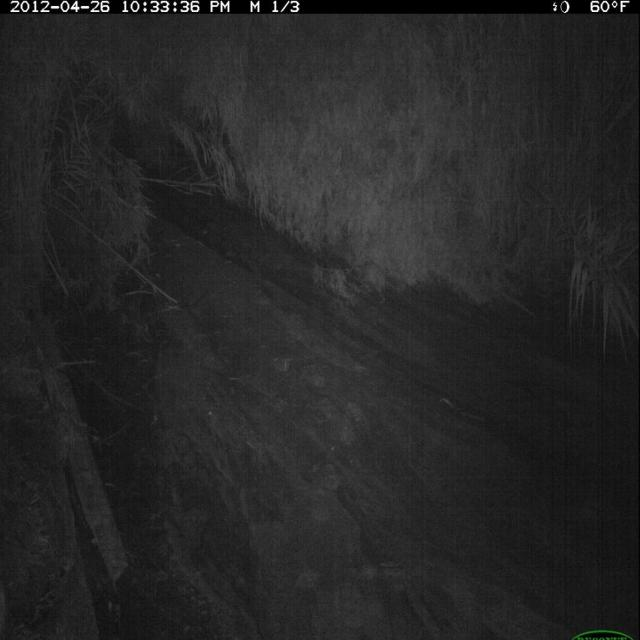opossum: (354, 260, 410, 307)
